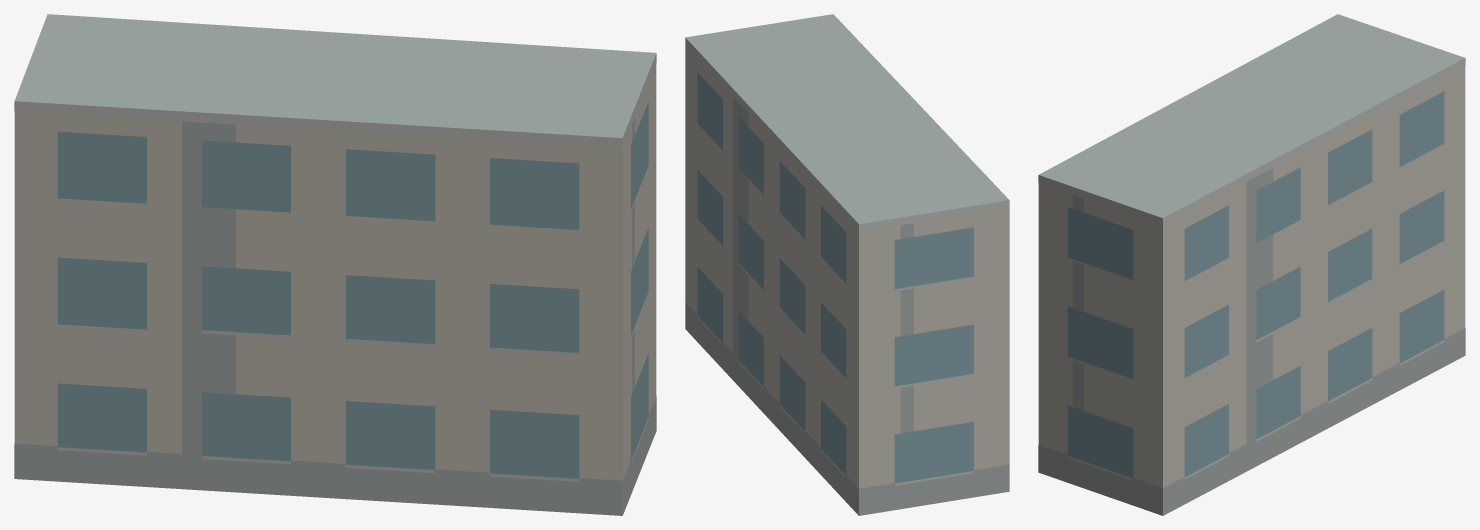
File: survey-upis-32743465.glb
3 renders of one model, left to right at view 1: azimuth 30°, elevation 25°; view 2: azimuth 150°, elevation 25°; view 3: azimuth 270°, elevation 25°, orthographic. The views are drawn at different scales.
Visible parts, largest first — view 1: survey-upis-32743465.tmp; view 2: survey-upis-32743465.tmp; view 3: survey-upis-32743465.tmp.
Part boxes in pixels (<box>): survey-upis-32743465.tmp: <box>14,14,656,515</box>; survey-upis-32743465.tmp: <box>685,14,1009,515</box>; survey-upis-32743465.tmp: <box>1038,14,1465,515</box>.
Bounding box in the file's own units: 13.47 × 9.15 × 11.9.
